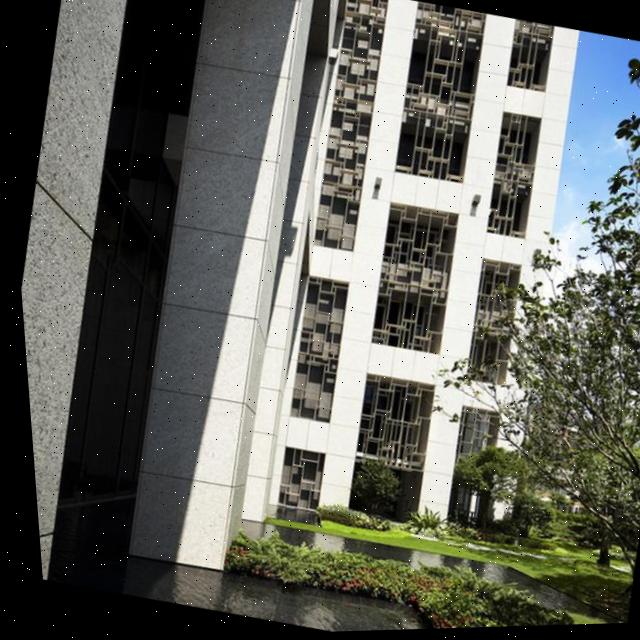building: (0, 0, 622, 640)
